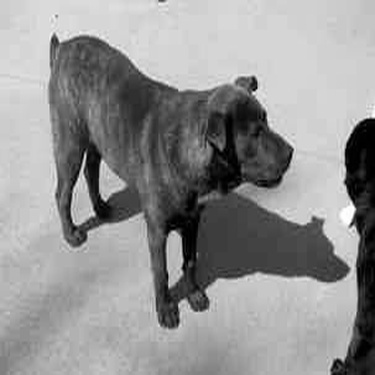dog: (24, 19, 295, 335), (332, 112, 368, 370)
